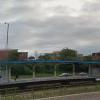Tree: (35, 44, 84, 78)
